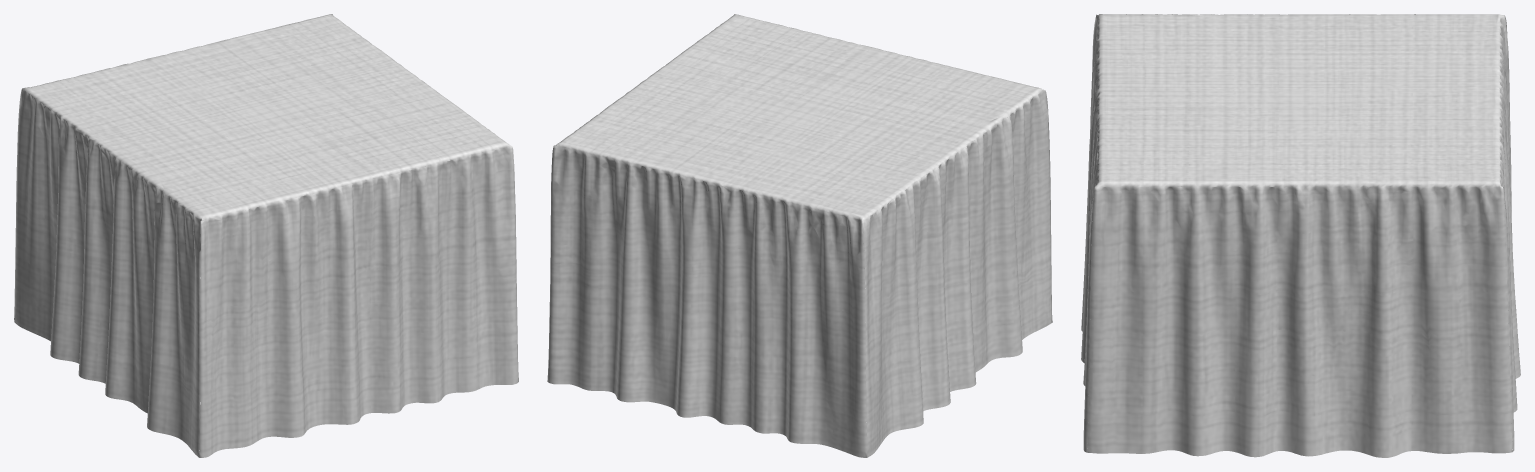
The model's file is z1_mesa_entrada.obj.
The picture shows the model from 3 angles, left to right: view 1: azimuth 30°, elevation 25°; view 2: azimuth 150°, elevation 25°; view 3: azimuth 270°, elevation 25°; orthographic projection. The views are drawn at different scales.
Parts seen in each view (by area): view 1: Rectangle003; view 2: Rectangle003; view 3: Rectangle003.
Part boxes in pixels (bbox=[...]): Rectangle003: bbox=[14, 14, 518, 457]; Rectangle003: bbox=[547, 14, 1052, 457]; Rectangle003: bbox=[1081, 14, 1520, 457].
Bounding box in the file's own units: 1.11 × 0.7501 × 1.11.
1 material, 1 textured.
